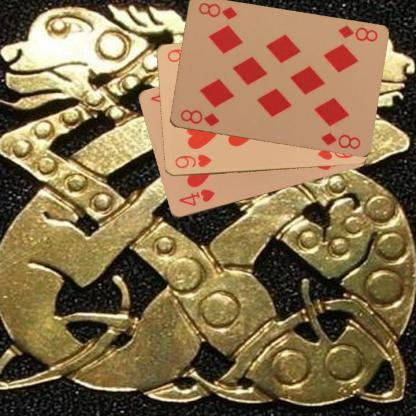4h: (176, 186, 216, 208)
8d: (177, 107, 221, 128), (335, 22, 379, 43)
9h: (172, 152, 213, 170)
